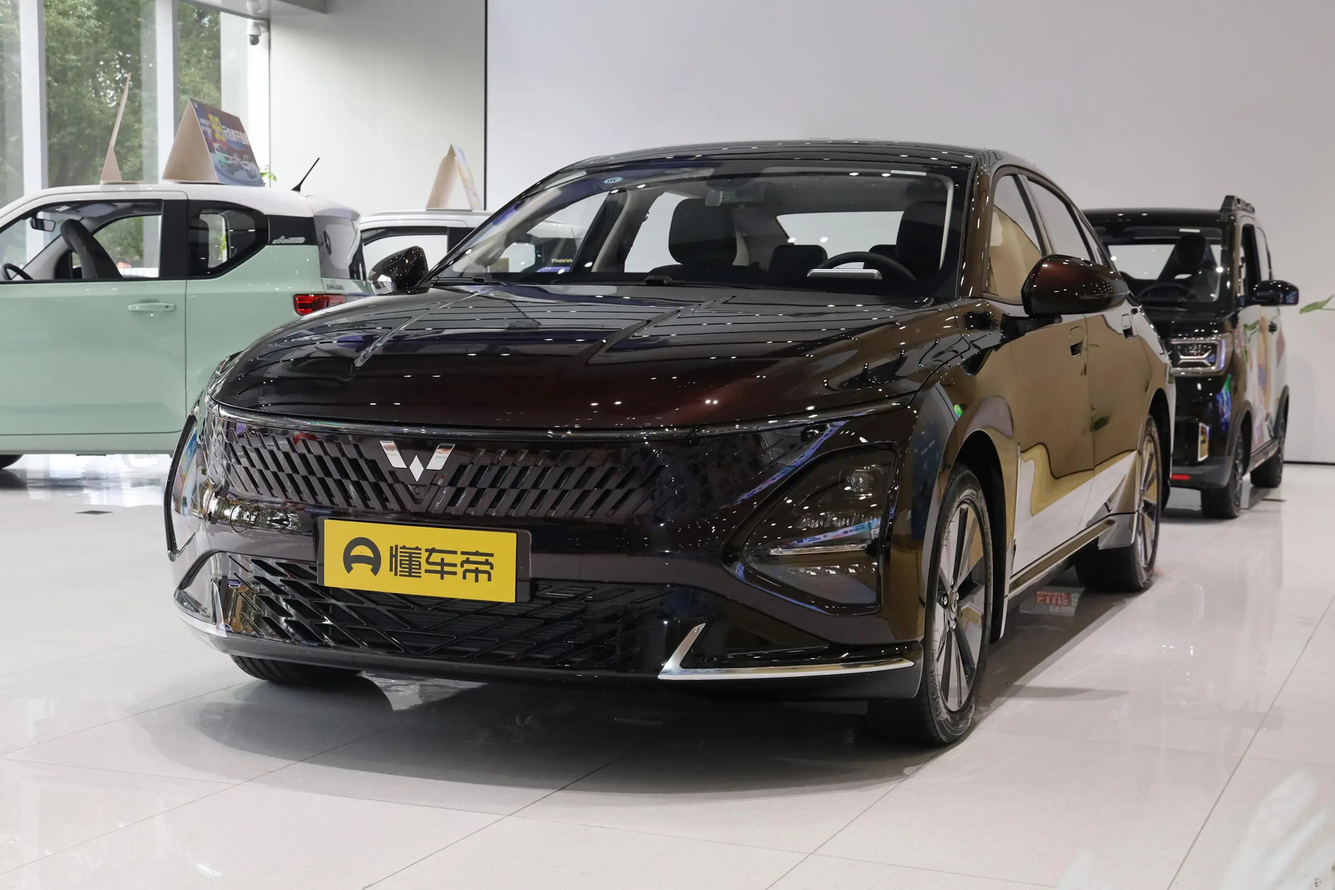SGMW: (380, 441, 454, 482)
